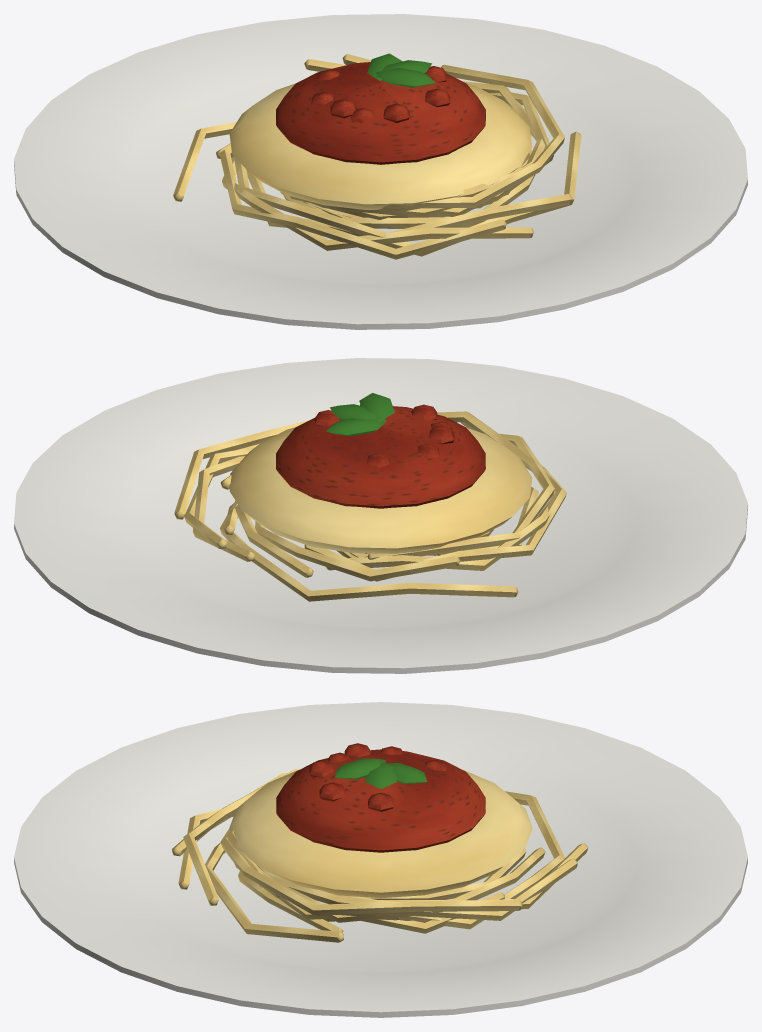
The model's file is meal_spaghetti_bolognese.glb.
The picture shows the model from 3 angles, top to bottom: view 1: azimuth 30°, elevation 25°; view 2: azimuth 150°, elevation 25°; view 3: azimuth 270°, elevation 25°; orthographic projection.
Visible parts, largest first — view 1: meal_spaghetti_bolognese; view 2: meal_spaghetti_bolognese; view 3: meal_spaghetti_bolognese.
Boxes of the visible parts, <box> form: meal_spaghetti_bolognese: <box>14,14,747,329</box>; meal_spaghetti_bolognese: <box>14,358,747,673</box>; meal_spaghetti_bolognese: <box>14,702,747,1017</box>.
Bounding box in the file's own units: 0.29 × 0.0633 × 0.29.
Materials: 5 (2 with a texture image).
